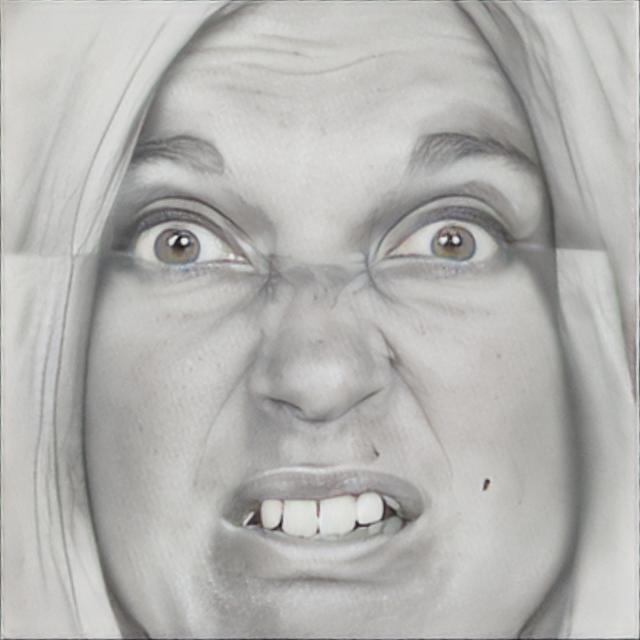disgust: (77, 0, 584, 640)
